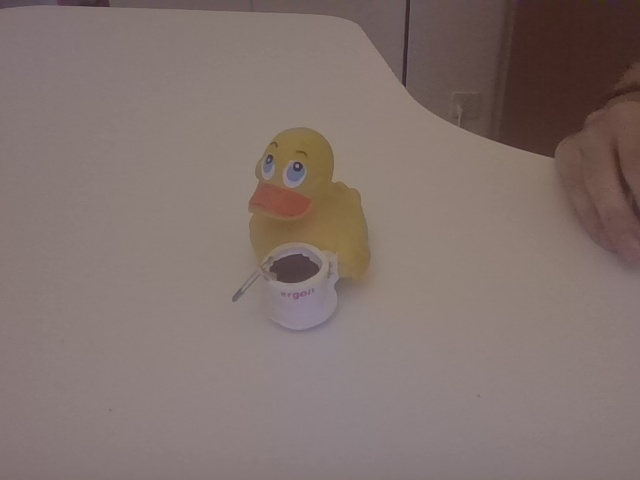duck: (212, 125, 378, 339)
